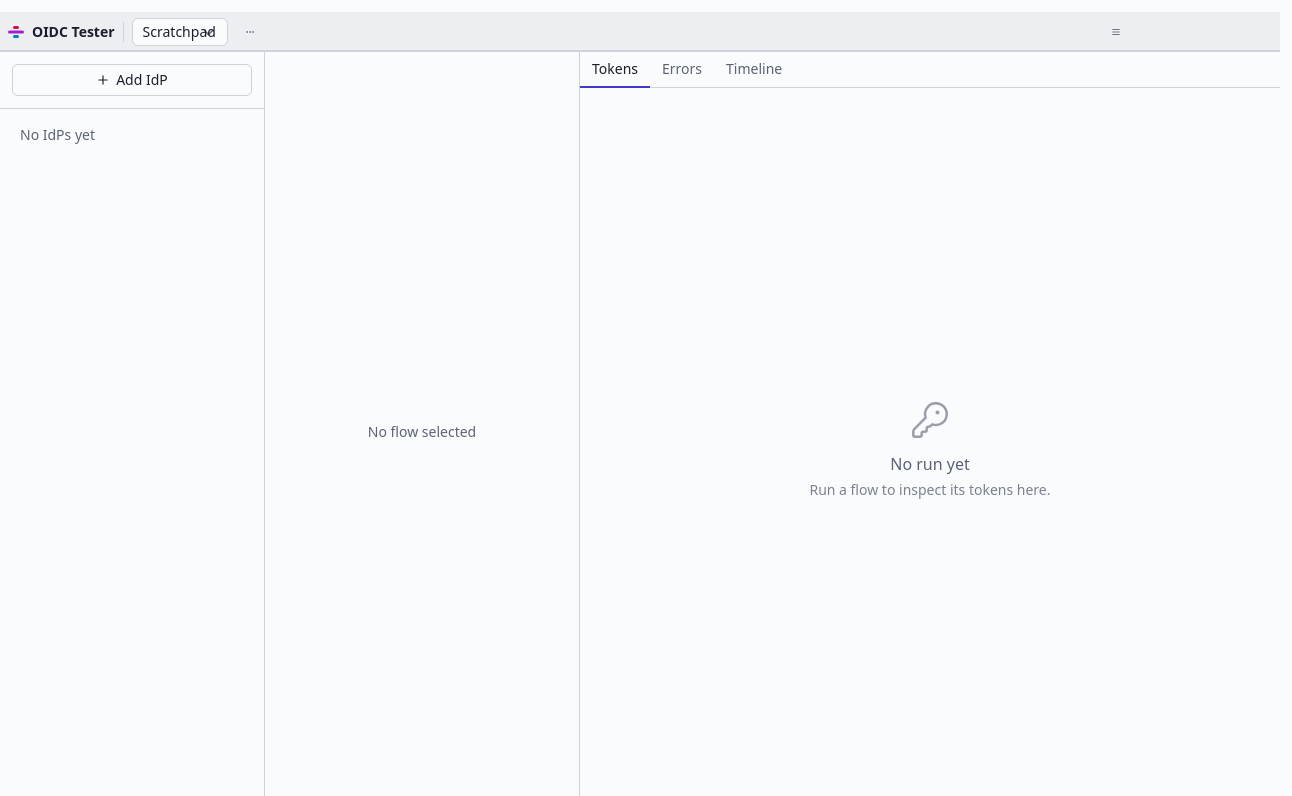
Test: app › REQ-FLOW-005 a client_credentials run from the UI shows the access token and persists the run
Click the button "Add IdP": (132, 80) [12, 64, 252, 96]
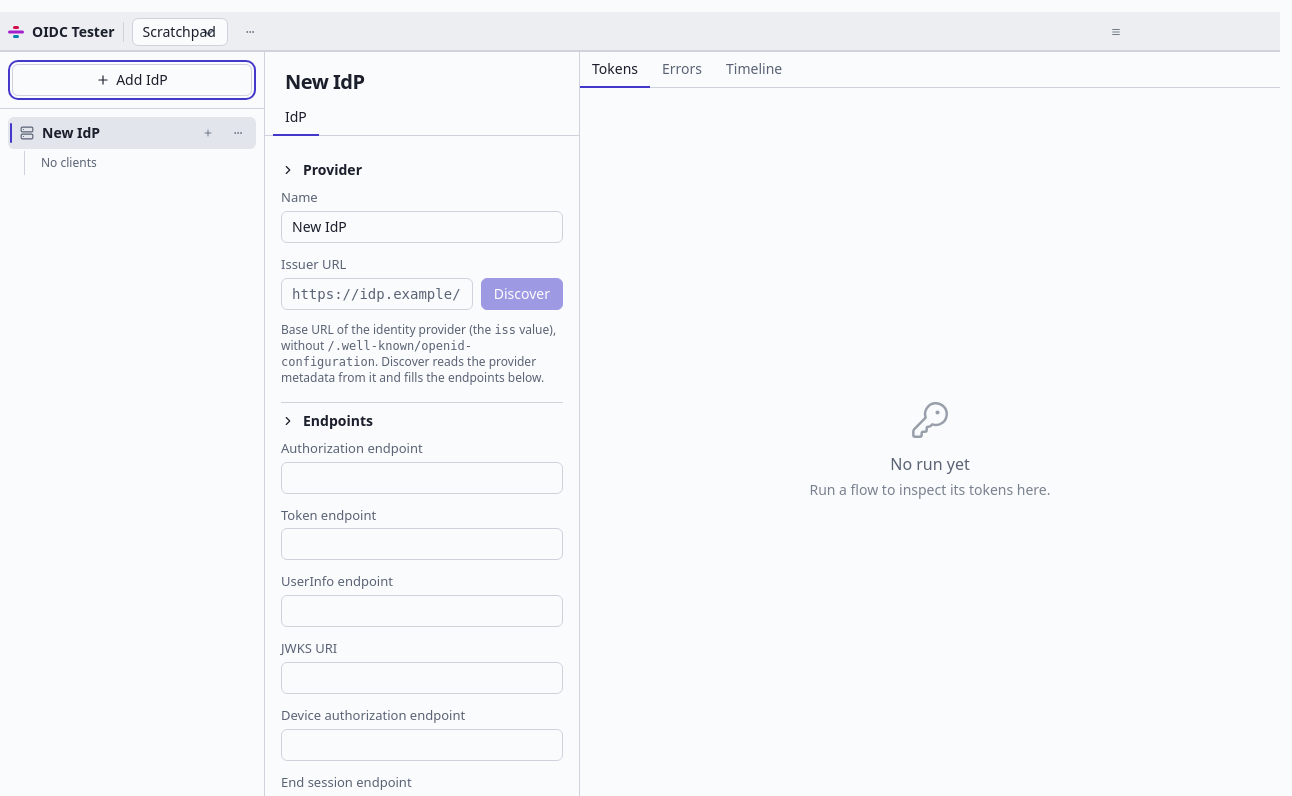
In the field labelled "Token endpoint": (422, 544) [281, 528, 563, 560], type "https://idp.test/token"
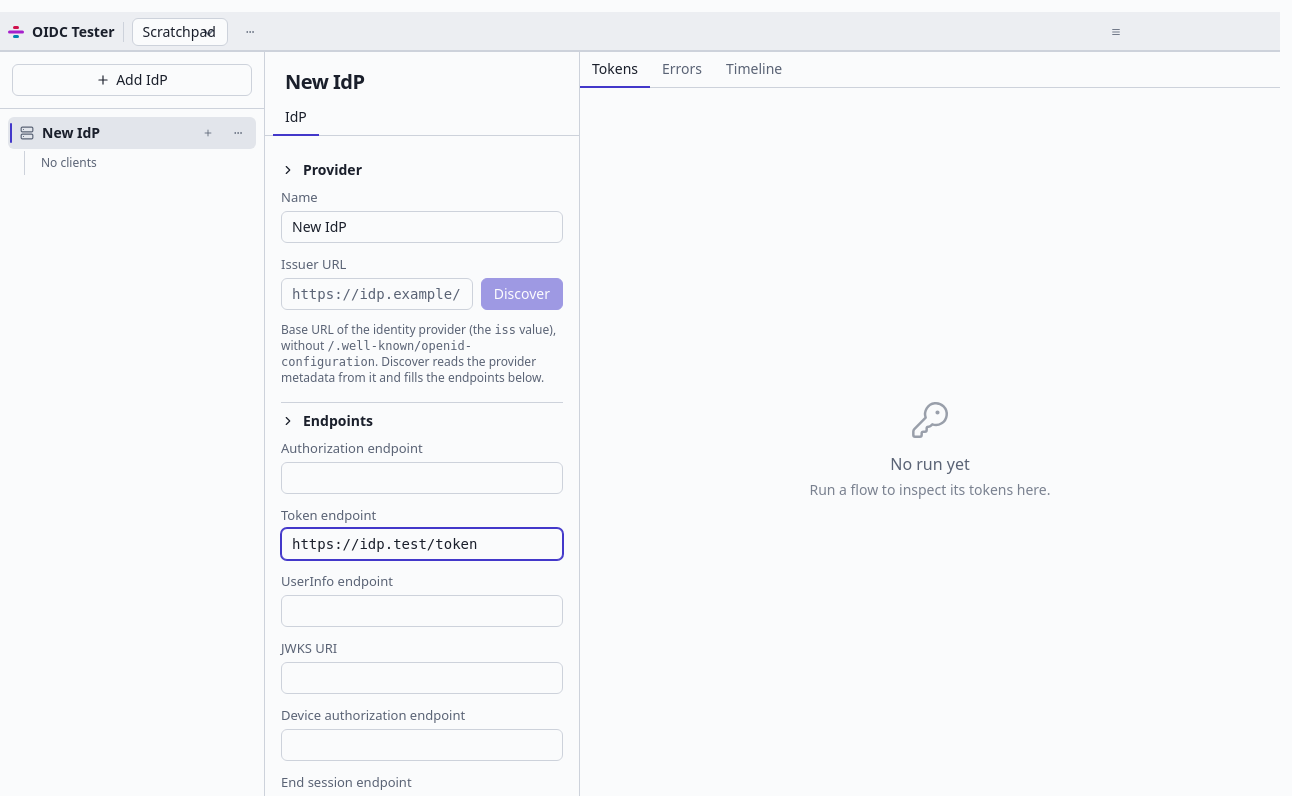
Click the button named "Add client to New IdP": (208, 133) [194, 119, 222, 147]
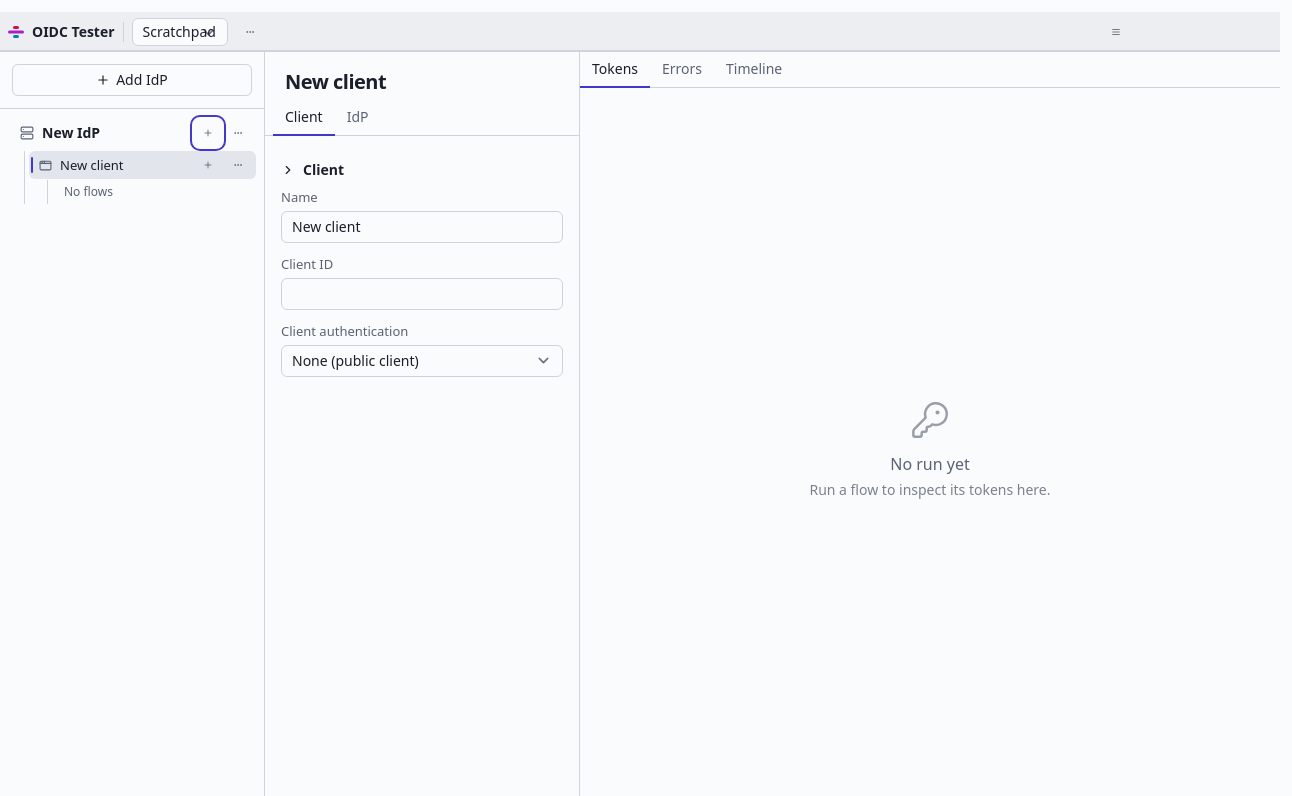
In the field labelled "Client ID": (422, 294) [281, 278, 563, 310], type "fake-client"
Click the button named "Add flow to New client": (208, 165) [194, 151, 222, 179]
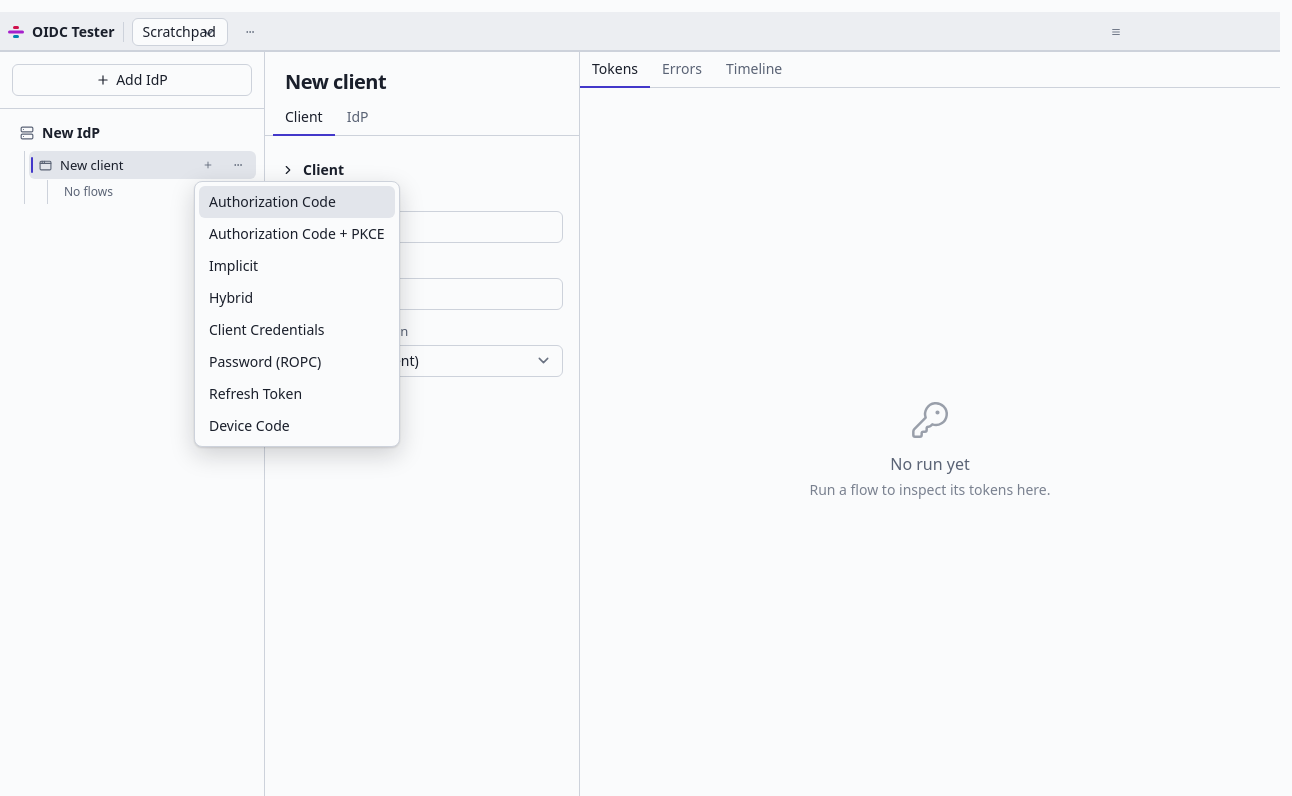
Click the menu item "Client Credentials": (297, 330) [199, 314, 395, 346]
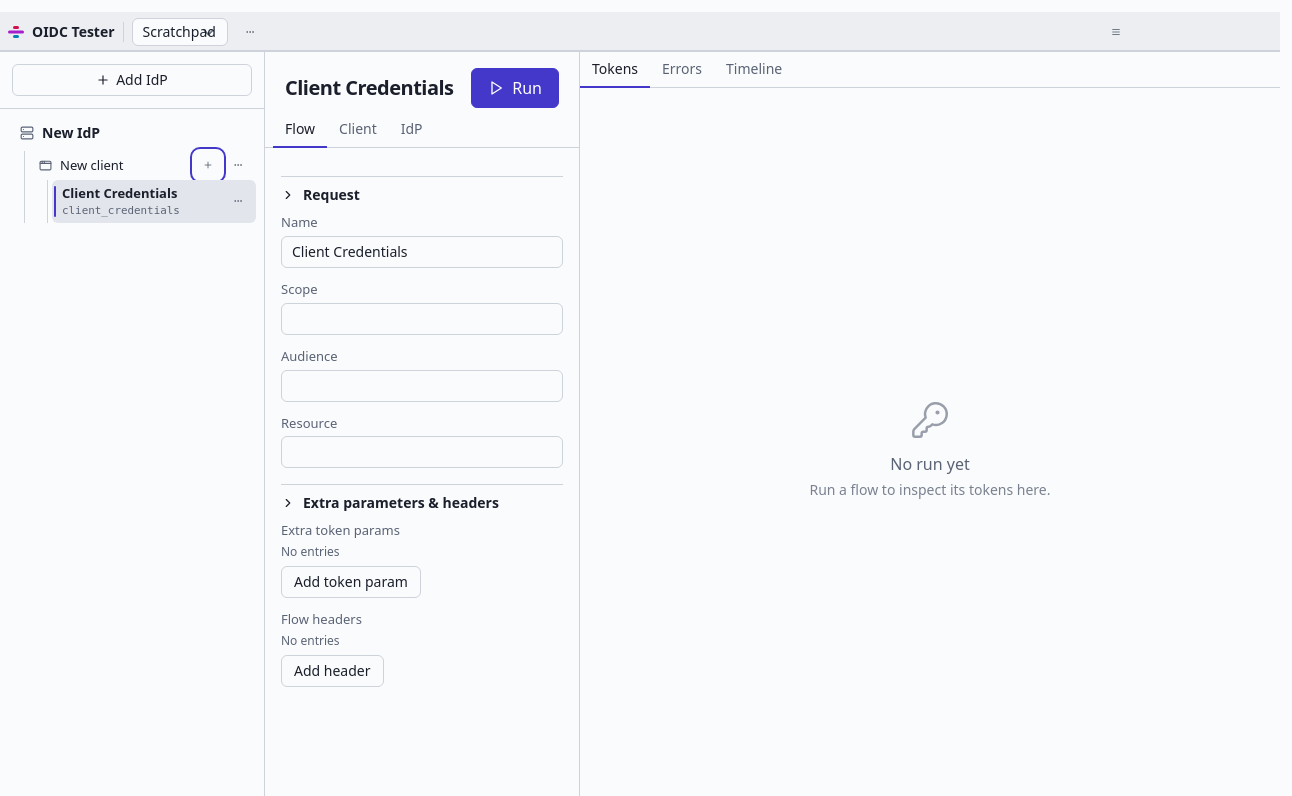
Click the button "Run": (515, 88) [471, 68, 559, 108]
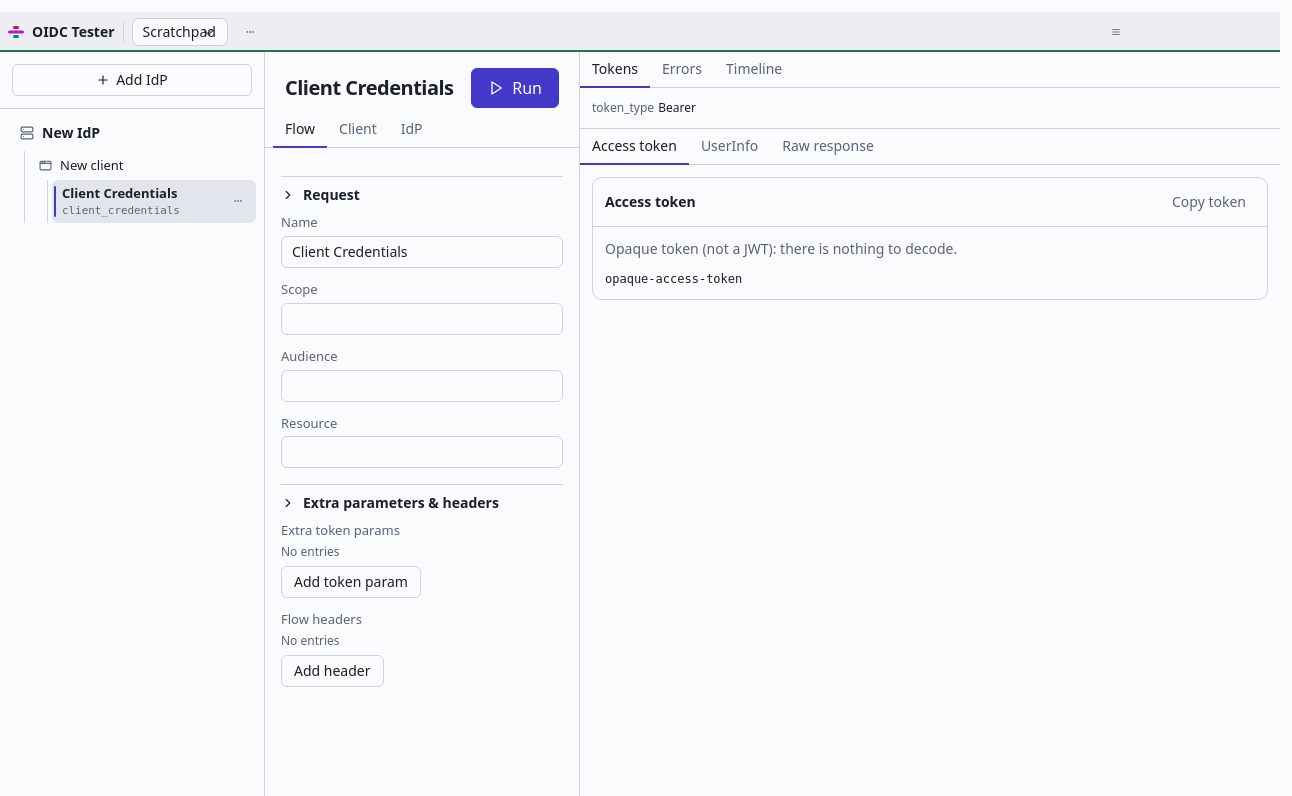
Now the text "opaque-access-token" is shown, box [605, 272, 742, 286]
